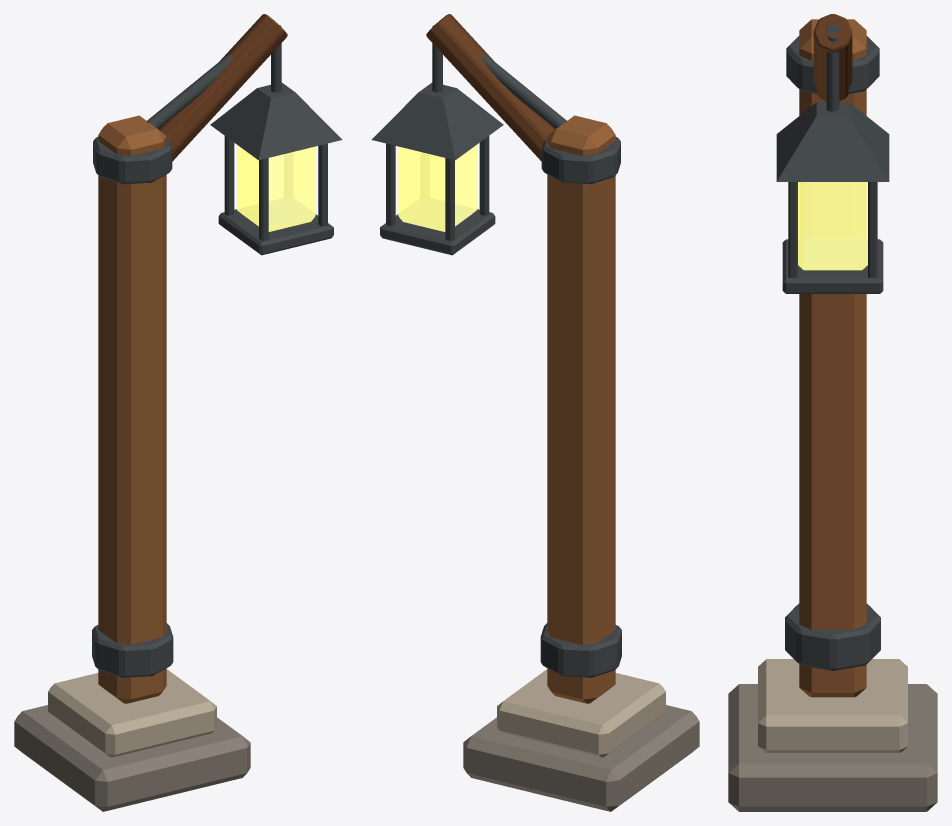
3 views of the same model, side by side, from view 1: azimuth 30°, elevation 25°; view 2: azimuth 150°, elevation 25°; view 3: azimuth 270°, elevation 25° (orthographic). The views are drawn at different scales.
Parts seen in each view (by area): view 1: WK_TimberPostLamp_LOD2_Compact; view 2: WK_TimberPostLamp_LOD2_Compact; view 3: WK_TimberPostLamp_LOD2_Compact.
Part boxes in pixels (x1,y1,x2,y2): WK_TimberPostLamp_LOD2_Compact: [14, 14, 342, 811]; WK_TimberPostLamp_LOD2_Compact: [371, 14, 699, 811]; WK_TimberPostLamp_LOD2_Compact: [728, 14, 937, 811].
Size of the model in its own units: 1.32 by 3.43 by 0.78.
